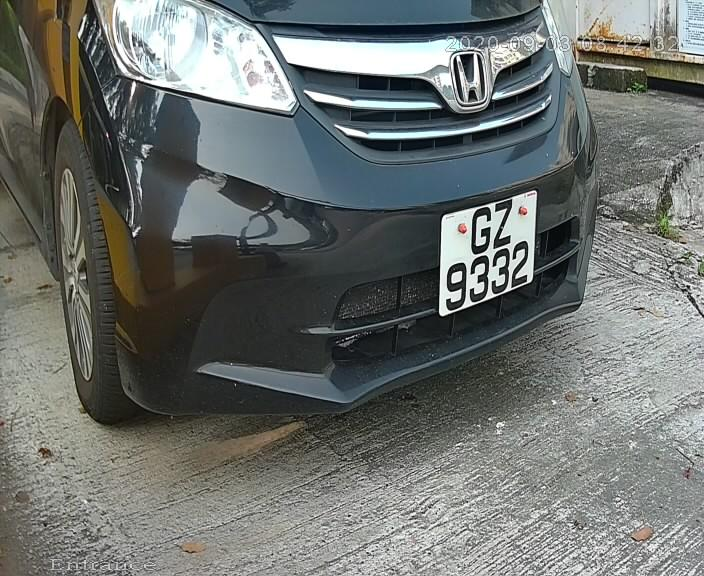License Plate: (434, 188, 541, 319)
